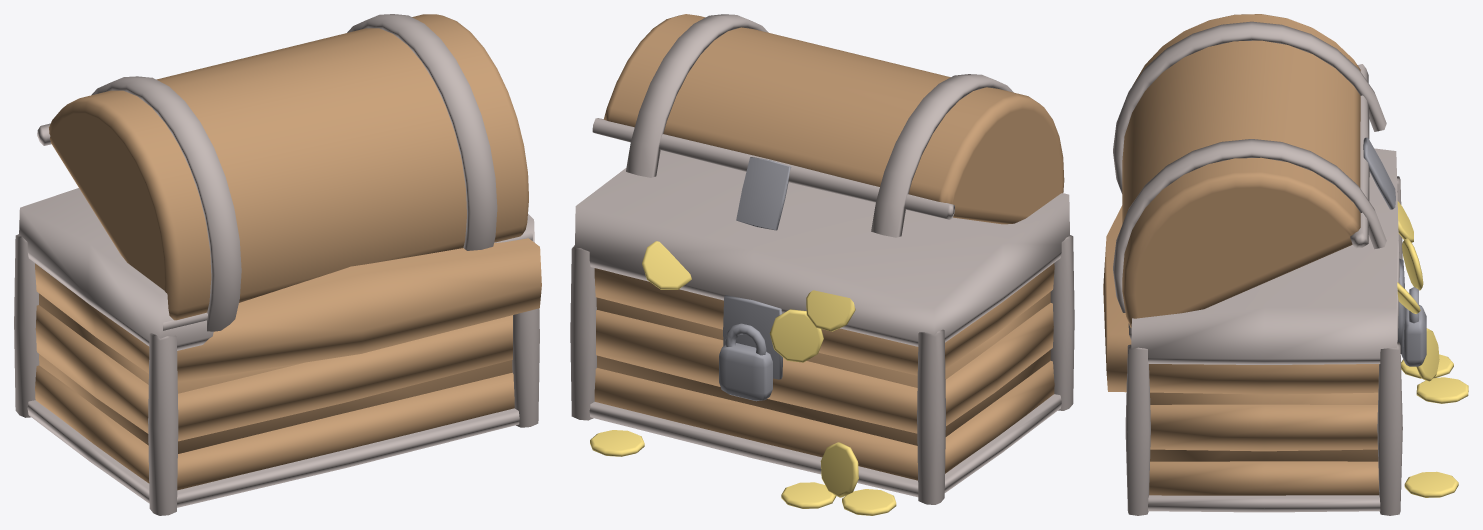
Rendered from SharkBaitChest.glb.
The picture shows the model from 3 angles, left to right: view 1: azimuth 30°, elevation 25°; view 2: azimuth 150°, elevation 25°; view 3: azimuth 270°, elevation 25°; orthographic projection. The views are drawn at different scales.
Parts seen in each view (by area): view 1: Wood, Trim; view 2: Wood, Trim, Gold, Lock; view 3: Wood, Trim, Gold, Lock.
Part boxes in pixels (x1,y1,x2,y2): Wood: (35, 14, 541, 490); Trim: (14, 14, 539, 515); Wood: (594, 14, 1064, 480); Trim: (570, 14, 1074, 504); Gold: (590, 241, 896, 515); Lock: (719, 157, 790, 401); Wood: (1103, 14, 1379, 495); Trim: (1113, 21, 1402, 515); Gold: (1397, 201, 1468, 497); Lock: (1363, 137, 1426, 366).
Size of the model in its own units: 2.62 by 2.4 by 2.29.
